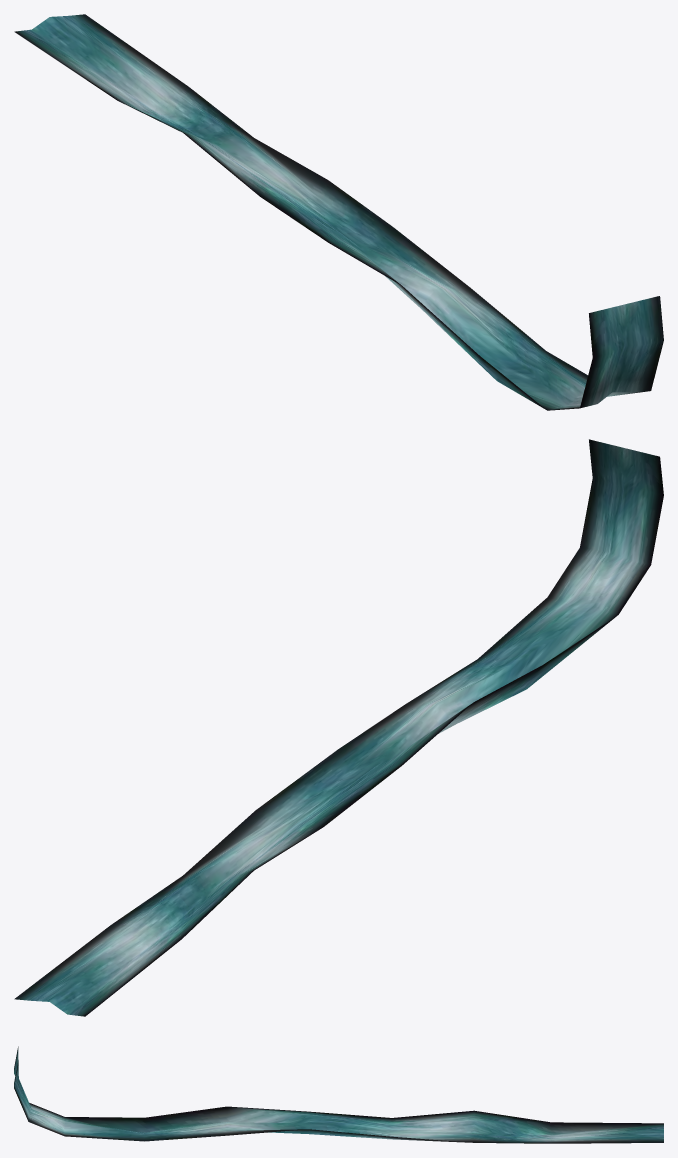
The picture shows the model from 3 angles, top to bottom: view 1: azimuth 30°, elevation 25°; view 2: azimuth 150°, elevation 25°; view 3: azimuth 270°, elevation 25°; orthographic projection. The views are drawn at different scales.
Parts seen in each view (by area): view 1: model_Object29; view 2: model_Object29; view 3: model_Object29.
Boxes of the visible parts, bbox=[...] form: model_Object29: bbox=[14, 14, 663, 410]; model_Object29: bbox=[14, 439, 663, 1016]; model_Object29: bbox=[14, 1046, 663, 1143].
Bounding box in the file's own units: 0.1733 × 0.3388 × 2.29.
Materials: 1 (1 with a texture image).
